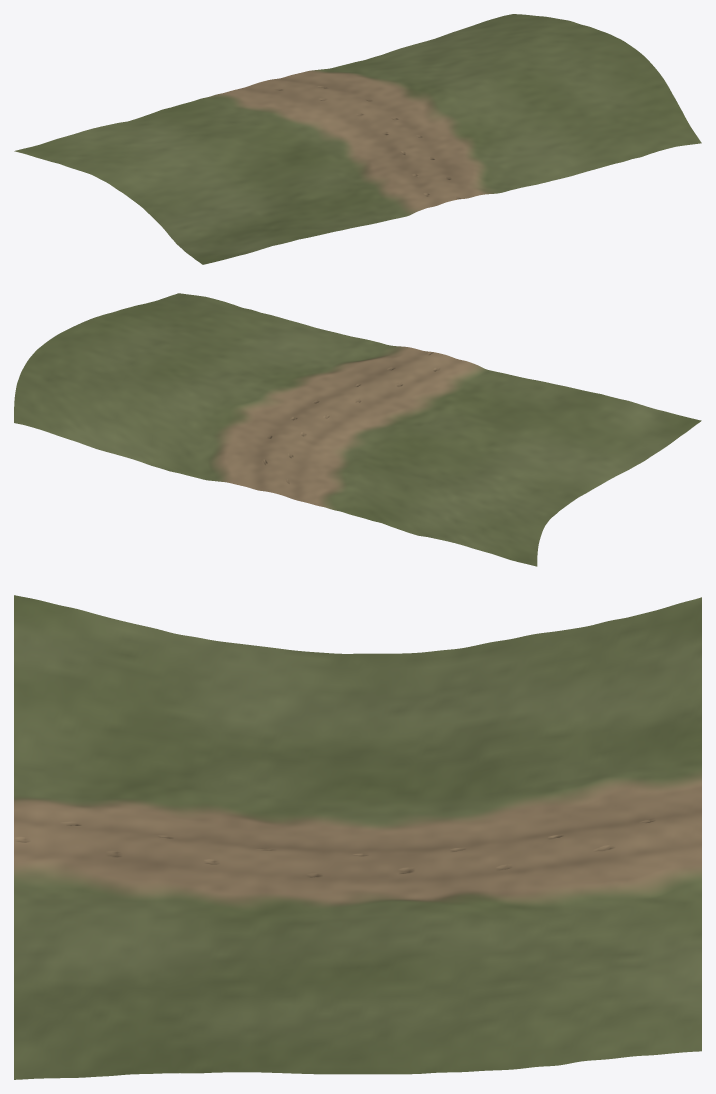
File: terrain_0.glb
3 renders of one model, top to bottom at view 1: azimuth 30°, elevation 25°; view 2: azimuth 150°, elevation 25°; view 3: azimuth 270°, elevation 25°, orthographic. The views are drawn at different scales.
Parts seen in each view (by area): view 1: CountryTerrain_0; view 2: CountryTerrain_0; view 3: CountryTerrain_0.
Part boxes in pixels (x1=…): CountryTerrain_0: x1=14, y1=14, x2=701, y2=264; CountryTerrain_0: x1=14, y1=293, x2=701, y2=566; CountryTerrain_0: x1=14, y1=595, x2=701, y2=1079.
Size of the model in its own units: 21.81 by 1.27 by 12.
